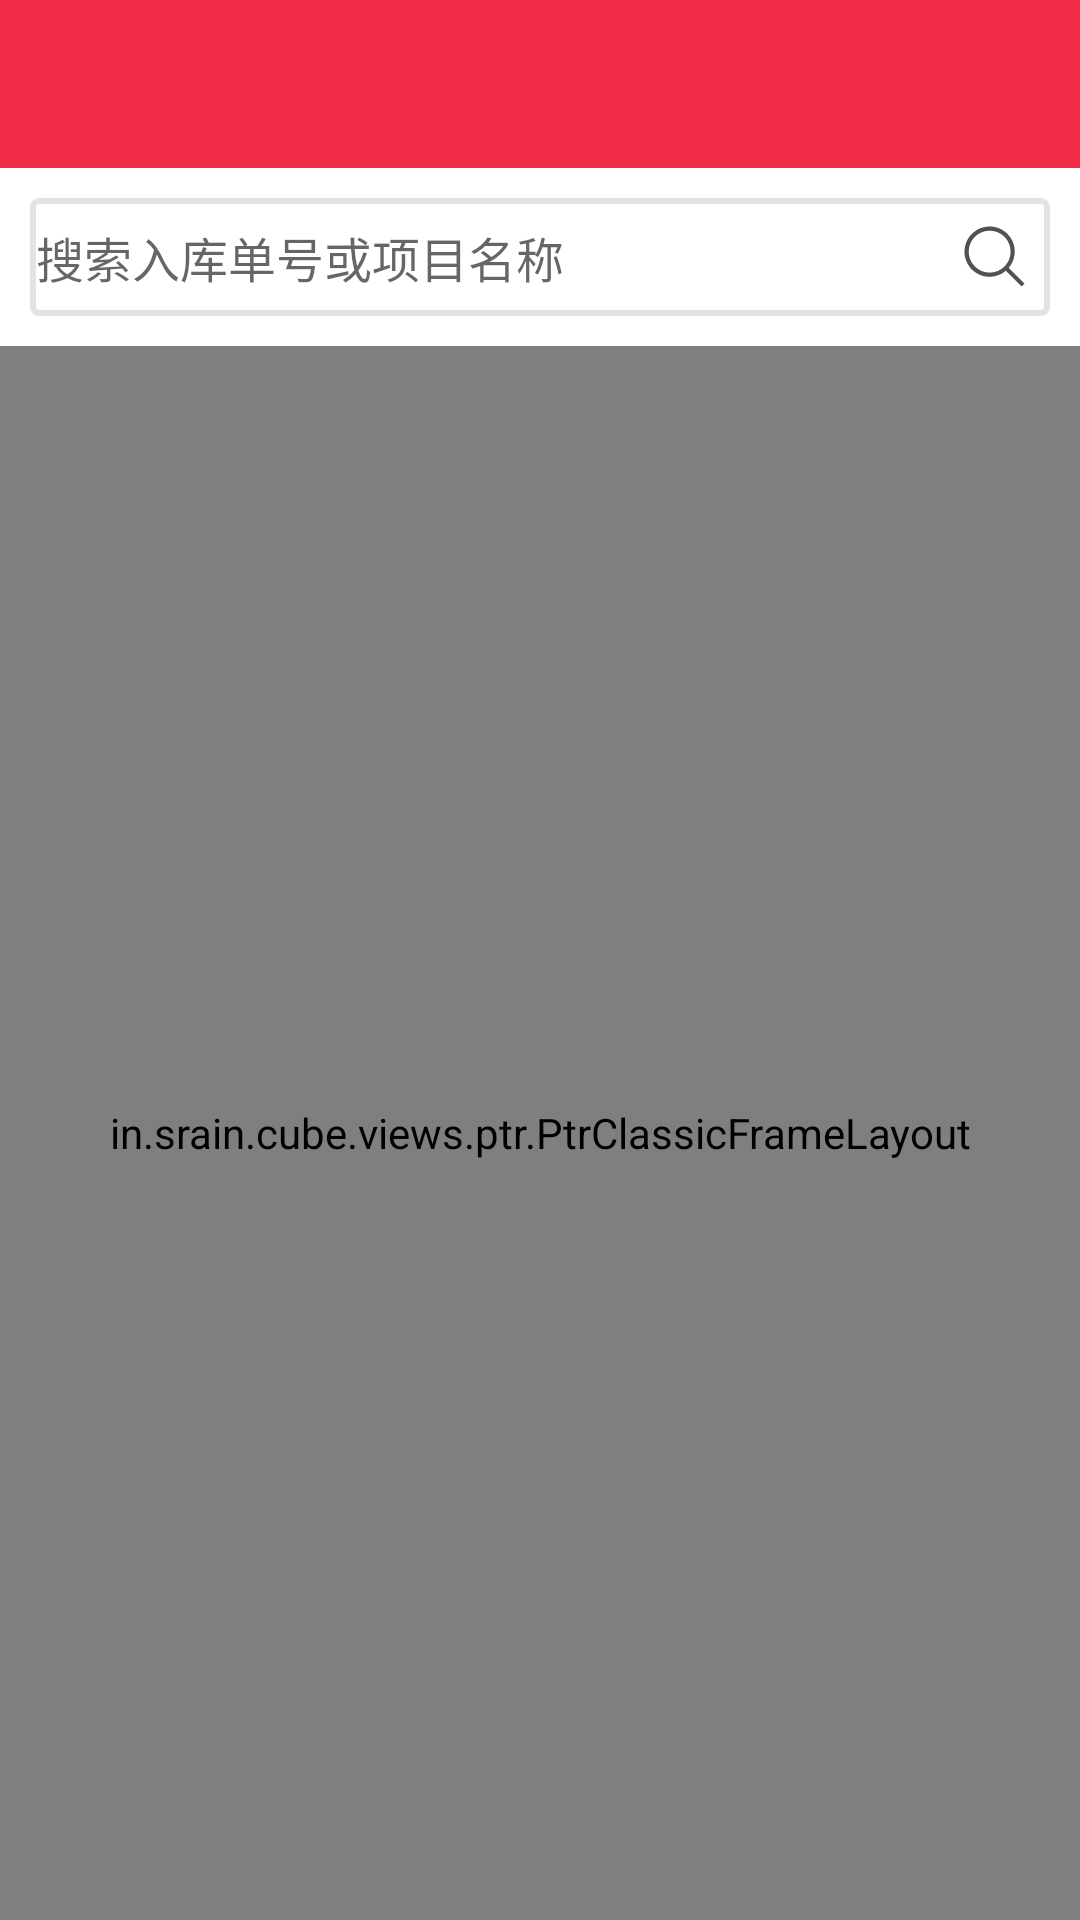

Icon bounding boxes for this 1080 x 1920 phone screenshot, format [x1,y1,x2,y2]:
search: [964,226,1025,287]
